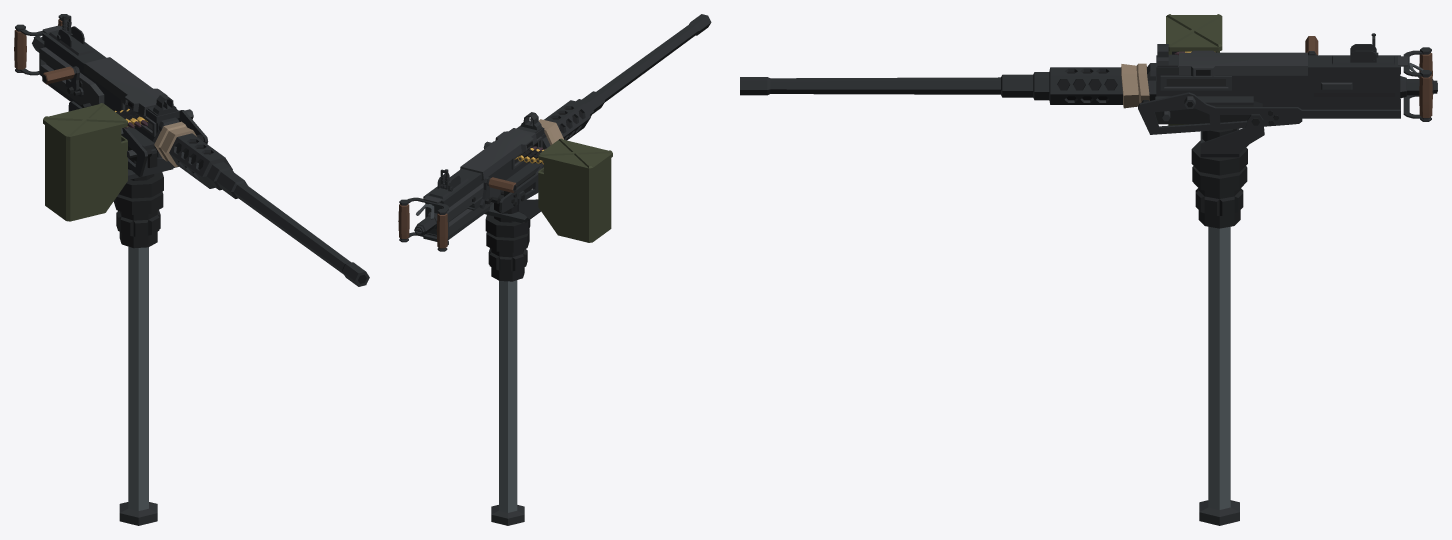
File: turret2_1.fbx
3 views of the same model, side by side, from view 1: azimuth 30°, elevation 25°; view 2: azimuth 150°, elevation 25°; view 3: azimuth 270°, elevation 25° (orthographic). The views are drawn at different scales.
Parts seen in each view (by area): view 1: SM_Veh_Pickup_Technical_01_Gun_Base.002; view 2: SM_Veh_Pickup_Technical_01_Gun_Base.002; view 3: SM_Veh_Pickup_Technical_01_Gun_Base.002.
Boxes of the visible parts, x1,y1,x2,y2 form: SM_Veh_Pickup_Technical_01_Gun_Base.002: (14,14,369,525); SM_Veh_Pickup_Technical_01_Gun_Base.002: (398,14,711,525); SM_Veh_Pickup_Technical_01_Gun_Base.002: (740,14,1437,525).
Size of the model in its own units: 60.99 by 194 by 255.
1 material, 1 textured.
